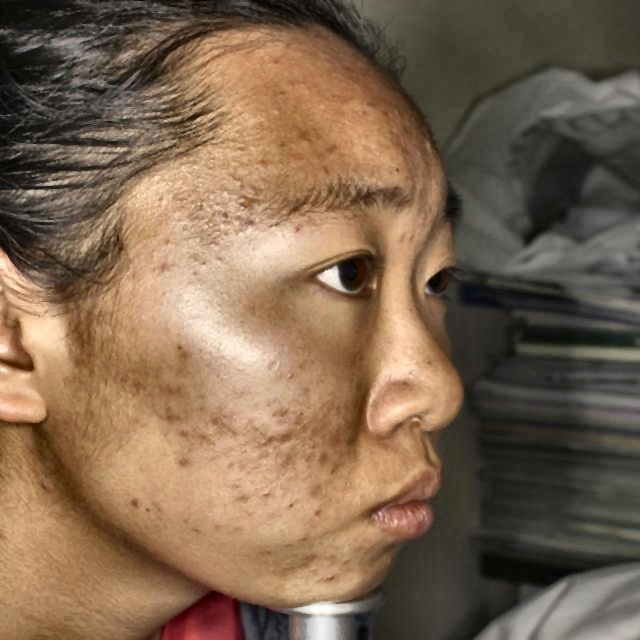pustule: (298, 445, 327, 472), (226, 212, 260, 235), (127, 364, 153, 392), (297, 123, 320, 154), (232, 188, 262, 211), (262, 425, 293, 444), (172, 445, 194, 467), (166, 409, 183, 436), (312, 430, 336, 442)
